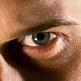eye: (32, 32, 50, 45)
